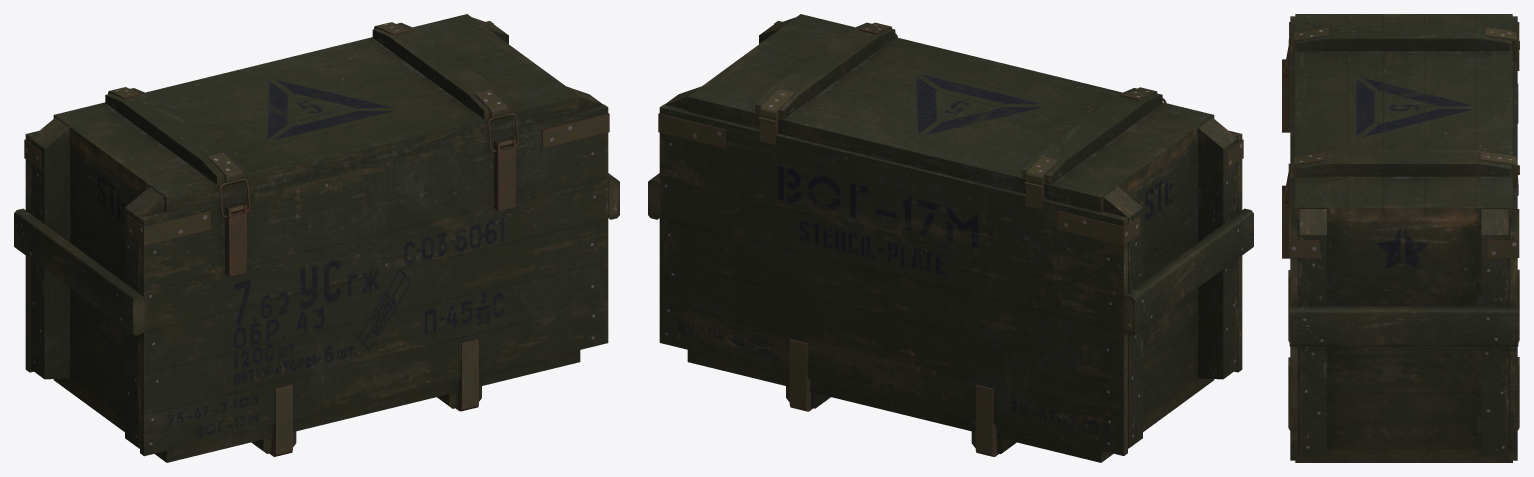
The picture shows the model from 3 angles, left to right: view 1: azimuth 30°, elevation 25°; view 2: azimuth 150°, elevation 25°; view 3: azimuth 270°, elevation 25°; orthographic projection. The views are drawn at different scales.
Parts seen in each view (by area): view 1: Box_Low., Wood_Detals_Low.003, Metal_Detales_Low.002; view 2: Box_Low., Wood_Detals_Low.003, Metal_Detales_Low.002; view 3: Box_Low., Wood_Detals_Low.003, Metal_Detales_Low.002.
Part boxes in pixels (left/top/right/bottom): Box_Low.: left=25, top=14, right=608, bottom=462; Wood_Detals_Low.003: left=14, top=17, right=619, bottom=453; Metal_Detales_Low.002: left=24, top=22, right=609, bottom=456; Box_Low.: left=659, top=14, right=1242, bottom=462; Wood_Detals_Low.003: left=648, top=17, right=1253, bottom=453; Metal_Detales_Low.002: left=658, top=22, right=1243, bottom=456; Box_Low.: left=1290, top=14, right=1517, bottom=462; Wood_Detals_Low.003: left=1289, top=25, right=1518, bottom=456; Metal_Detales_Low.002: left=1282, top=22, right=1519, bottom=430.
Bounding box in the file's own units: 0.8393 × 0.4912 × 0.3695.
Materials: 1 (1 with a texture image).
